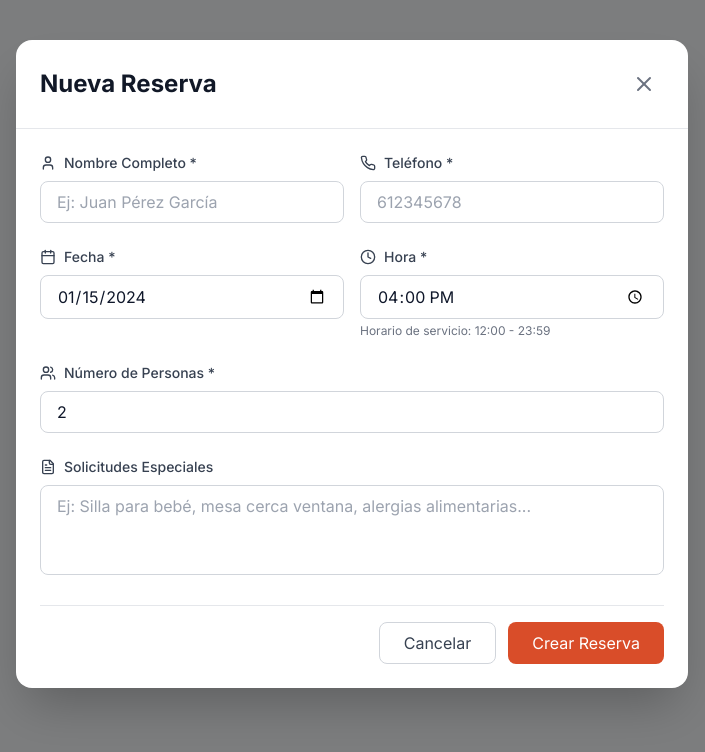
ReservaForm Component › Party Size Validation (1-20 people) › should reject party size less than 1
Replace the text in the number field labelled "Número de Personas *" with "0" at [352, 412], box left=40, top=391, right=664, bottom=433
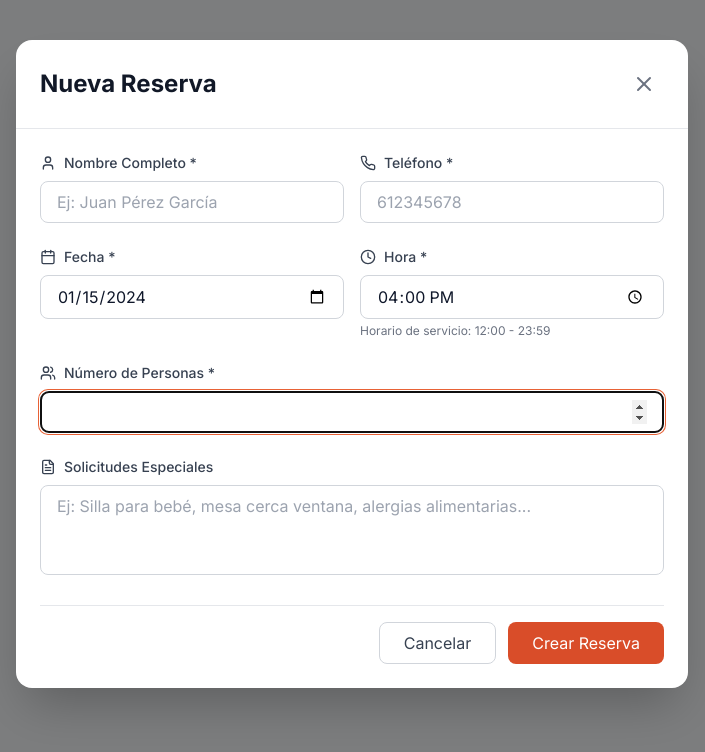
Click the button "Crear Reserva".
click(586, 643)  # box left=508, top=622, right=664, bottom=664
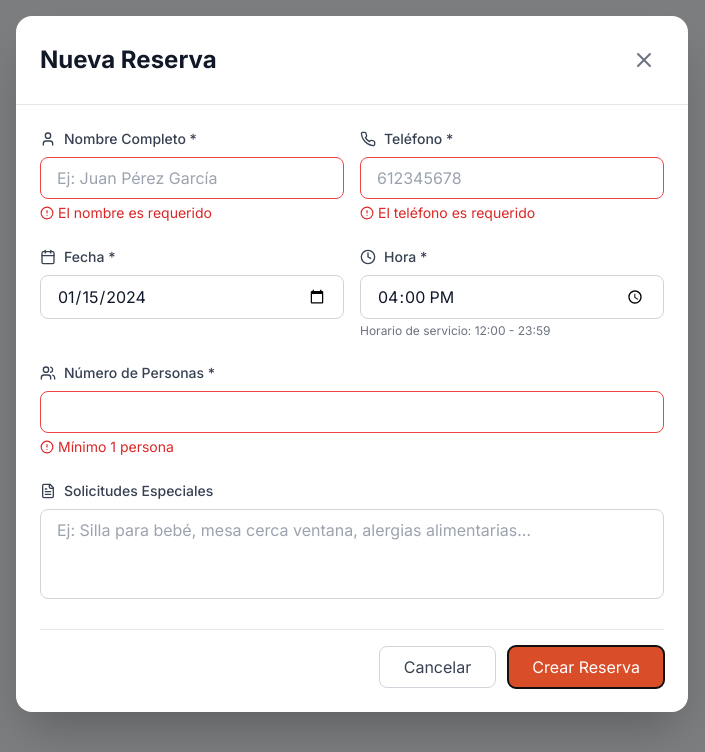
Expected: the text "Mínimo 1 persona" is shown, left=58, top=437, right=174, bottom=457
